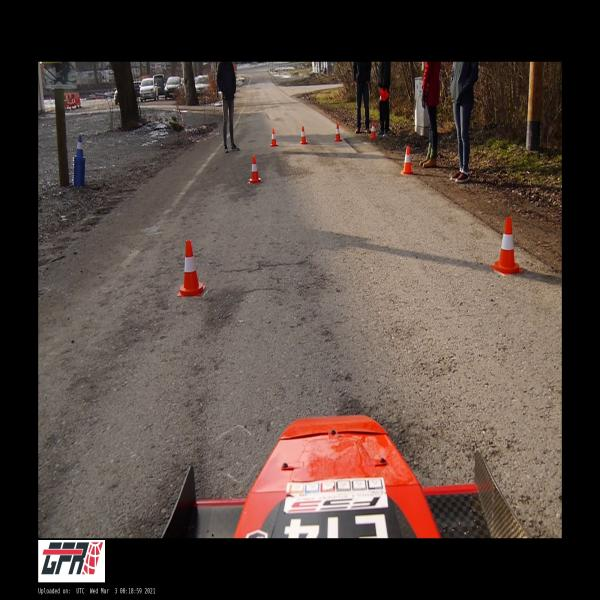blue_cone: (75, 135, 85, 157)
orange_cone: (491, 217, 524, 274), (178, 240, 205, 296), (401, 146, 413, 174), (249, 156, 261, 183), (379, 87, 388, 103), (270, 129, 278, 146), (334, 124, 342, 141), (300, 126, 307, 144), (370, 120, 376, 139)
